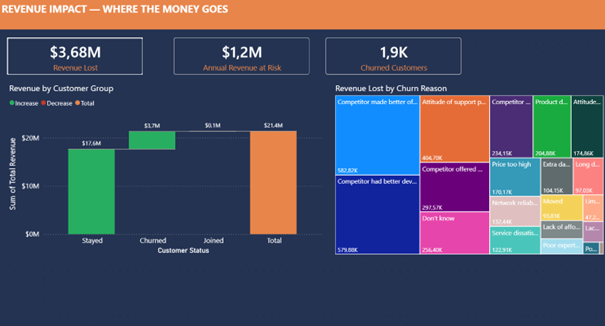

The dashboard page shown, as its layout file describes it:
{"tool":"powerbi","page":{"name":"Revenue Impact","canvas":[1280,720],"ordinal":3},"visuals":[{"type":"waterfallChart","title":"Revenue by Customer Group","fields":{"Category":["telecom_clean_powerbi.Customer Status"],"Y":["Sum(telecom_clean_powerbi.Total Revenue)"]},"box":[16,176,672,368],"z":0},{"type":"treemap","title":"Revenue Lost by Churn Reason","fields":{"Group":["telecom_clean_powerbi.Churn Reason"],"Values":["telecom_clean_powerbi.Revenue Lost"]},"box":[704,176,576,368],"z":1000},{"type":"textbox","box":[0,0,1280,64],"z":2000},{"type":"cardVisual","fields":{"Data":["telecom_clean_powerbi.Revenue Lost"]},"box":[0,64,320,112],"z":3000},{"type":"cardVisual","fields":{"Data":["telecom_clean_powerbi.Annual Revenue at Risk"]},"box":[352,64,320,112],"z":4000},{"type":"cardVisual","fields":{"Data":["telecom_clean_powerbi.Churned Customers"]},"box":[672,64,320,112],"z":5000}]}

Visuals, with their boxes on the page's 1280x720 design canvas (x1, y1, x2, y2). These are canvas units, not pixel positions in the 605x326 screenshot, which may show the page scaled, cropped or inside an application window:
"Revenue by Customer Group" waterfallChart: <box>16,176,688,544</box>
"Revenue Lost by Churn Reason" treemap: <box>704,176,1280,544</box>
textbox: <box>0,0,1280,64</box>
cardVisual - telecom_clean_powerbi.Revenue Lost: <box>0,64,320,176</box>
cardVisual - telecom_clean_powerbi.Annual Revenue at Risk: <box>352,64,672,176</box>
cardVisual - telecom_clean_powerbi.Churned Customers: <box>672,64,992,176</box>
